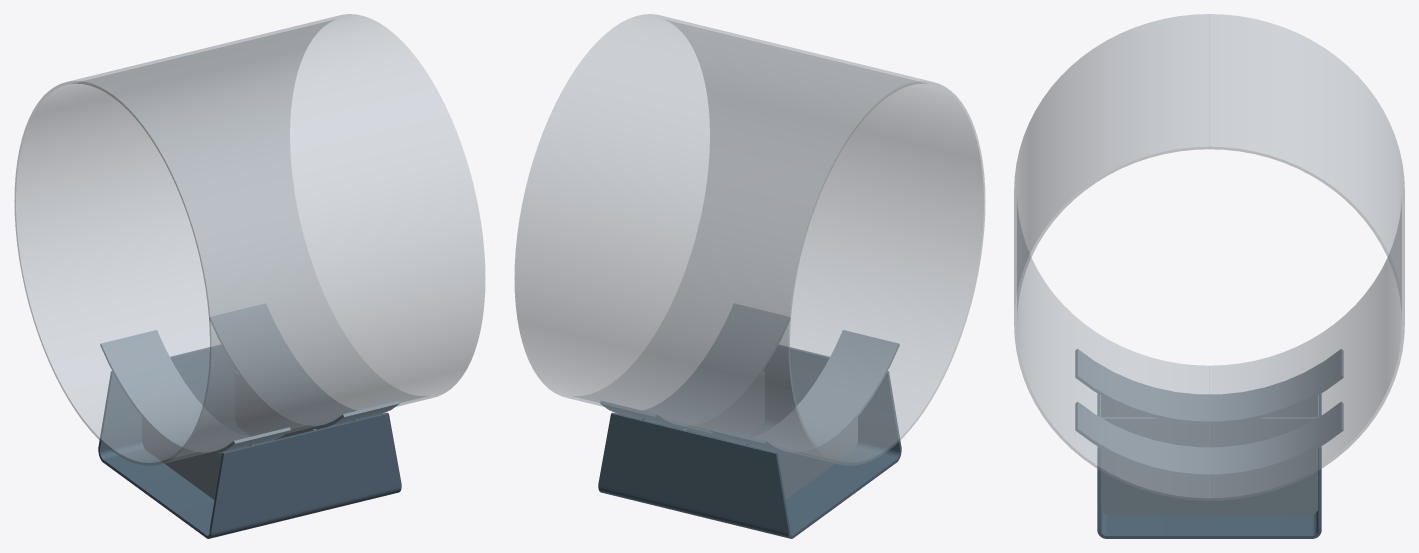
The model's file is TS-624.000-113-opora-dn1220-H200-L680.glb.
The picture shows the model from 3 angles, left to right: view 1: azimuth 30°, elevation 25°; view 2: azimuth 150°, elevation 25°; view 3: azimuth 270°, elevation 25°; orthographic projection.
Parts seen in each view (by area): view 1: truba, skoba, podushka_0, podushka_1, rebro3_0, rebro4_1; view 2: truba, skoba, podushka_0, podushka_1, rebro3_0, rebro4_1; view 3: truba, rebro3_1, podushka_0, podushka_1, skoba, rebro4_0, rebro3_0.
Boxes of the visible parts, x1,y1,x2,y2 form: truba: (14,14,485,465); skoba: (98,345,401,538); podushka_0: (100,330,290,455); podushka_1: (209,303,399,429); rebro3_0: (142,417,253,499); rebro4_1: (235,372,316,439); truba: (514,14,985,465); skoba: (598,345,901,538); podushka_0: (709,330,899,455); podushka_1: (600,303,790,429); rebro3_0: (746,417,857,499); rebro4_1: (683,372,764,439); truba: (1014,14,1404,500); rebro3_1: (1101,448,1317,515); podushka_0: (1075,349,1343,424); podushka_1: (1075,402,1343,476); skoba: (1097,393,1321,538); rebro4_0: (1101,417,1317,447); rebro3_0: (1101,395,1317,417).
Bounding box in the file's own units: 980 × 1421 × 1220.
